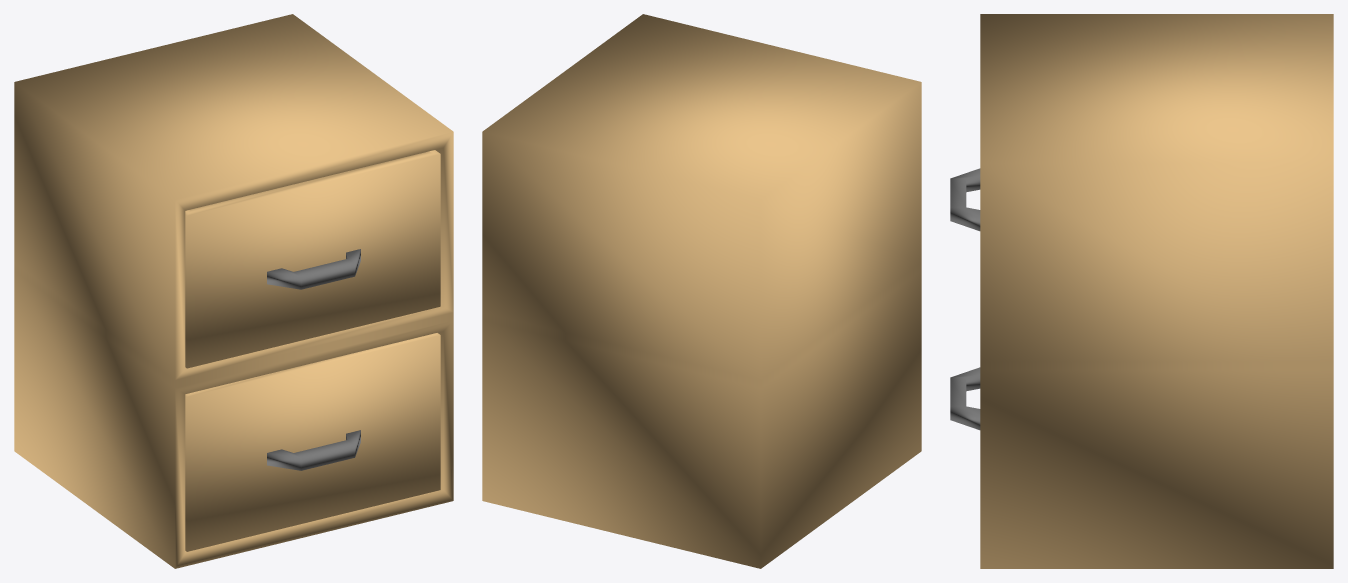
The model's file is ShelfWithCabinet.fbx.
3 views of the same model, side by side, from view 1: azimuth 30°, elevation 25°; view 2: azimuth 150°, elevation 25°; view 3: azimuth 270°, elevation 25° (orthographic). The views are drawn at different scales.
Visible parts, largest first — view 1: Shelf, Cabinet, Cabinet.001, Handle, Handle.001; view 2: Shelf; view 3: Shelf, Handle, Handle.001.
Part boxes in pixels (x1,y1,x2,y2): Shelf: [14, 14, 453, 568]; Cabinet: [185, 150, 440, 368]; Cabinet.001: [185, 333, 440, 551]; Handle: [267, 249, 360, 289]; Handle.001: [267, 430, 360, 470]; Shelf: [482, 14, 921, 568]; Shelf: [980, 14, 1333, 568]; Handle: [950, 168, 980, 231]; Handle.001: [950, 367, 980, 430].
Size of the model in its own units: 66.6 by 84.32 by 72.26.
